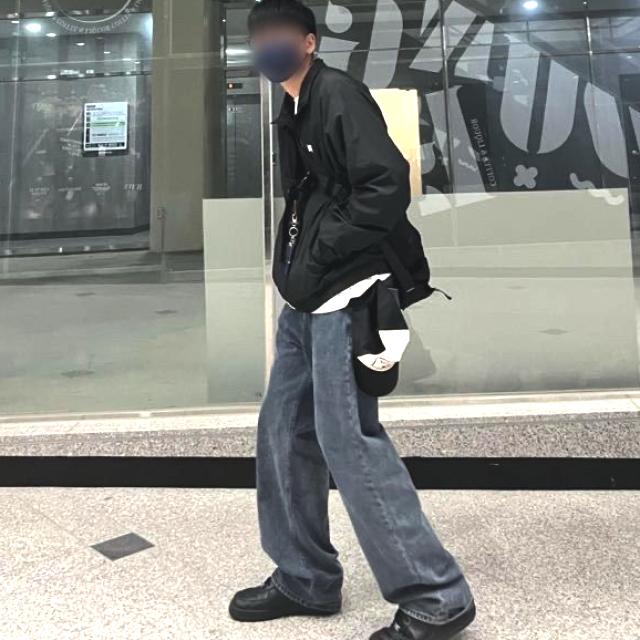denimpants: (257, 298, 479, 622)
jacket: (266, 62, 434, 308)
